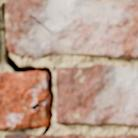brick: (6, 0, 137, 58), (56, 65, 137, 125), (0, 72, 50, 129), (4, 134, 137, 137)
crack: (0, 2, 54, 135)
